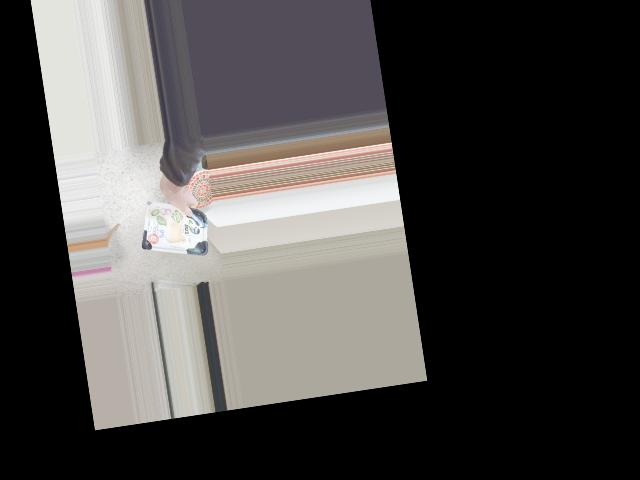cheese: (138, 193, 213, 264)
